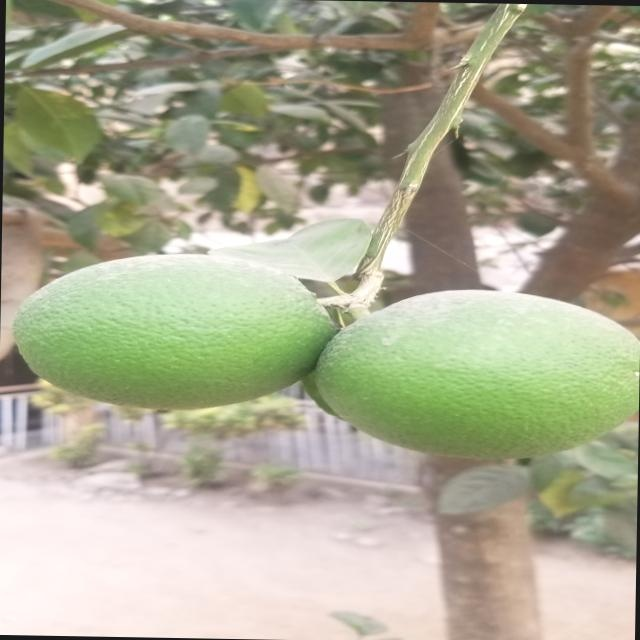agrume: (304, 287, 640, 464), (12, 248, 331, 409)
